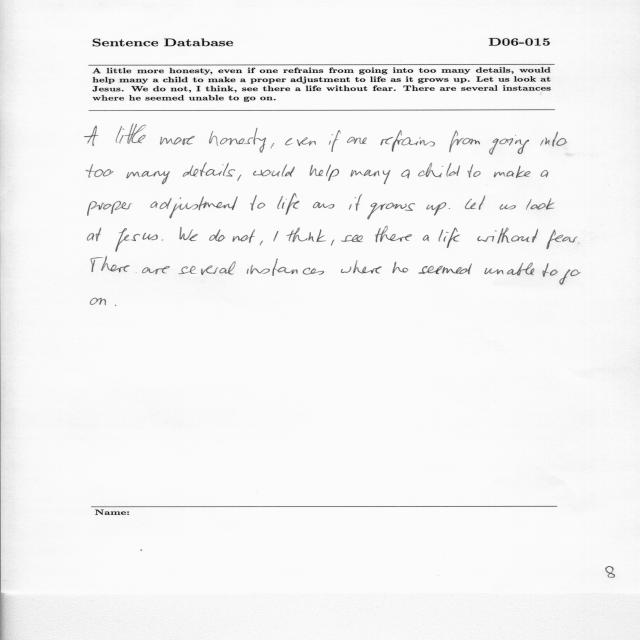word: (150, 197, 238, 219), (209, 128, 266, 153), (247, 258, 324, 276), (380, 130, 435, 152), (115, 228, 158, 252), (478, 228, 539, 244), (367, 203, 415, 220), (178, 261, 236, 275), (489, 135, 529, 155), (183, 163, 235, 177), (485, 262, 535, 276), (449, 131, 480, 153), (88, 201, 132, 216), (91, 256, 129, 273), (116, 124, 146, 144), (286, 228, 326, 243), (418, 264, 472, 275), (375, 226, 412, 242), (547, 230, 578, 249), (418, 163, 460, 177), (350, 170, 391, 184), (126, 171, 170, 184), (253, 164, 295, 177), (341, 261, 382, 274), (310, 164, 339, 181), (278, 193, 300, 215), (438, 227, 460, 248), (494, 166, 531, 178), (540, 132, 567, 147), (87, 164, 114, 178), (559, 269, 581, 285), (526, 198, 554, 210), (160, 136, 195, 145), (233, 229, 255, 243), (84, 126, 99, 146), (465, 195, 485, 210), (427, 202, 447, 216), (285, 137, 316, 146), (179, 227, 198, 241), (329, 130, 340, 152), (251, 195, 266, 210), (142, 266, 170, 274), (349, 194, 362, 211), (209, 229, 226, 242), (543, 263, 558, 277), (88, 228, 102, 242), (467, 165, 481, 178), (393, 262, 409, 273), (341, 235, 363, 242), (313, 202, 334, 209), (347, 137, 367, 144), (90, 298, 106, 306), (499, 204, 516, 210), (401, 170, 410, 179), (541, 170, 549, 178), (274, 231, 279, 242), (423, 235, 429, 241), (238, 175, 242, 182), (271, 143, 274, 149), (331, 240, 334, 246), (260, 241, 263, 246), (162, 240, 164, 241), (449, 208, 450, 209), (578, 243, 579, 244), (115, 305, 116, 306)
